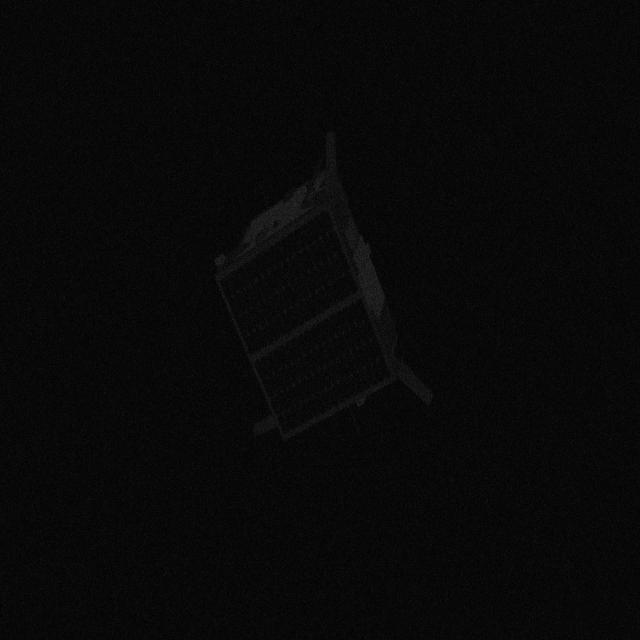medium_debris: (206, 124, 424, 444)
